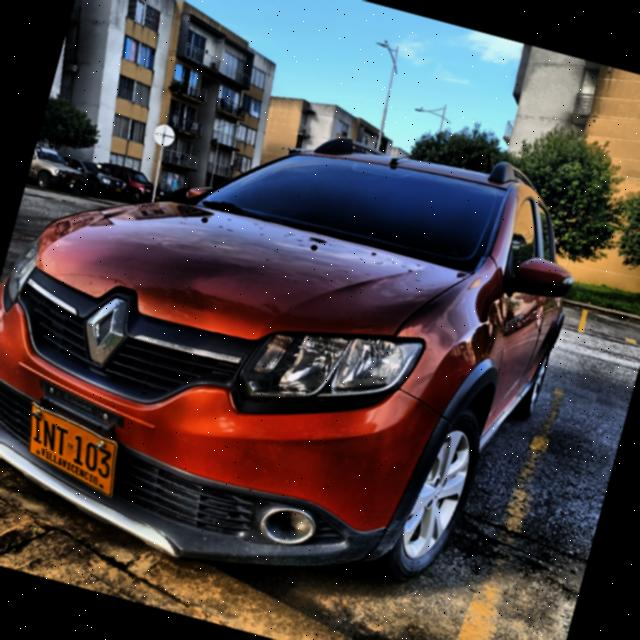plate: (29, 402, 116, 496)
